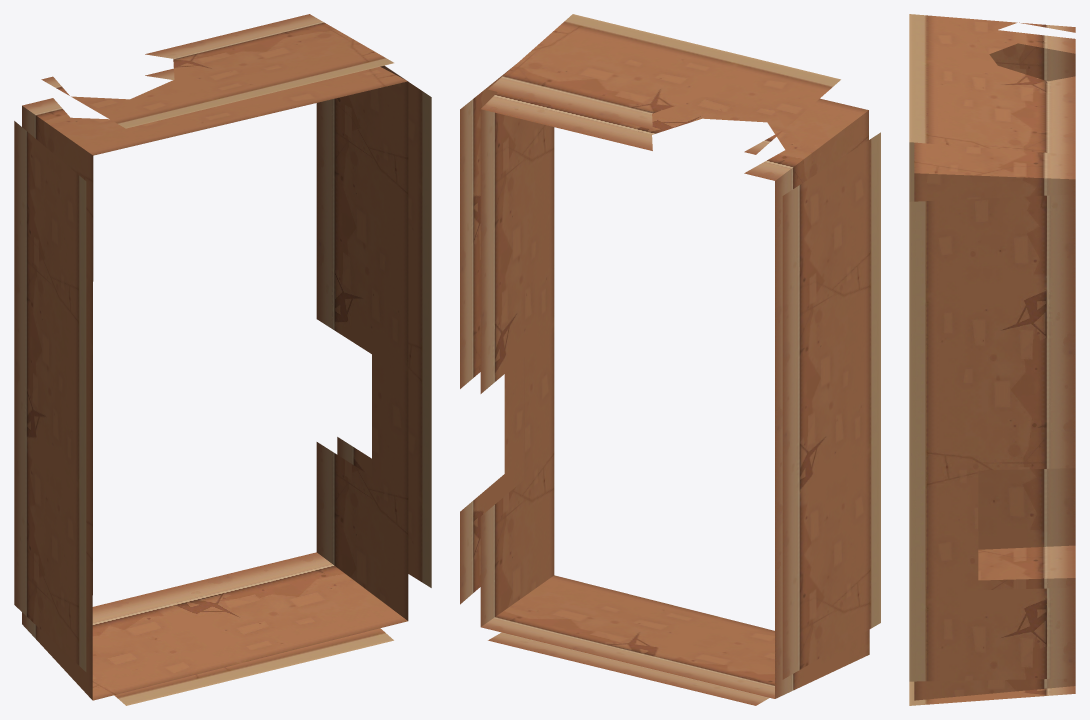
The model's file is house_02_0_50512e64__ZombiesII_depot_diffuse_06_ddf3d44e_c1f257.obj.
3 views of the same model, side by side, from view 1: azimuth 30°, elevation 25°; view 2: azimuth 150°, elevation 25°; view 3: azimuth 270°, elevation 25° (orthographic). The views are drawn at different scales.
Size of the model in its own units: 12.06 by 19.27 by 5.15.
Materials: 1 (1 with a texture image).
